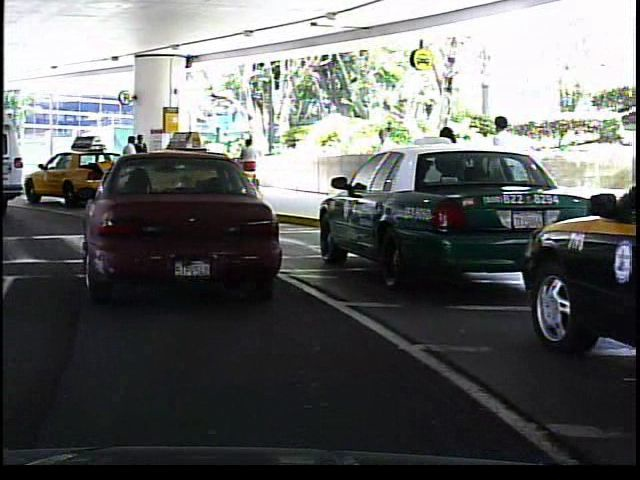person: (480, 110, 527, 229), (425, 117, 472, 224), (367, 118, 399, 201), (238, 135, 261, 192), (119, 133, 140, 189), (134, 129, 151, 186)
